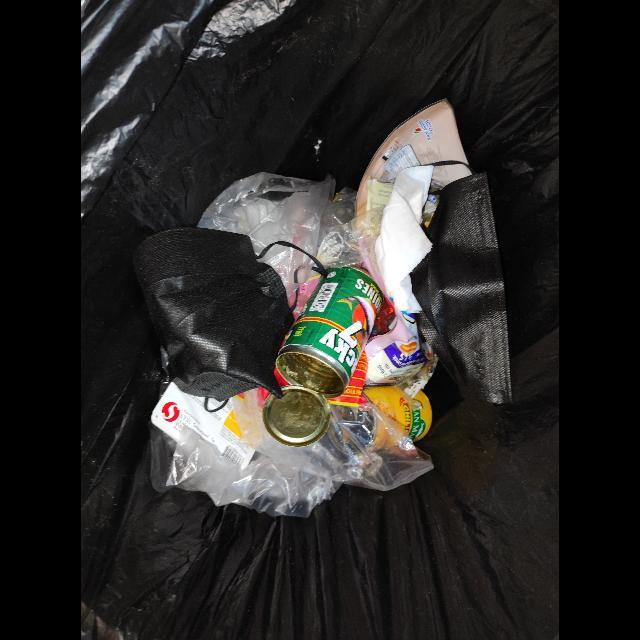metal: (263, 267, 385, 448)
plastic: (197, 173, 355, 284)
wrapper: (151, 382, 270, 470)
